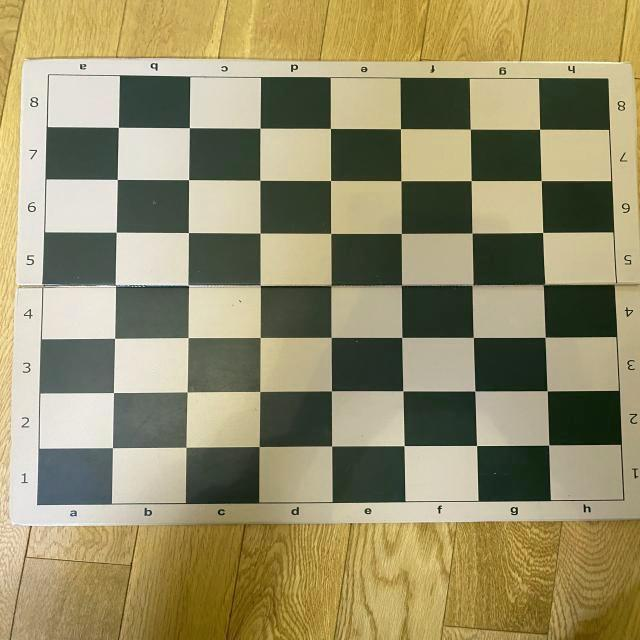chess-table-corners: (32, 500, 48, 510), (618, 494, 630, 507), (600, 74, 616, 82), (44, 72, 56, 80)
